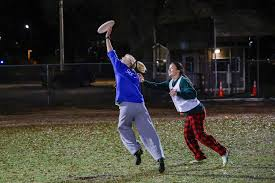disc: (97, 19, 115, 34)
